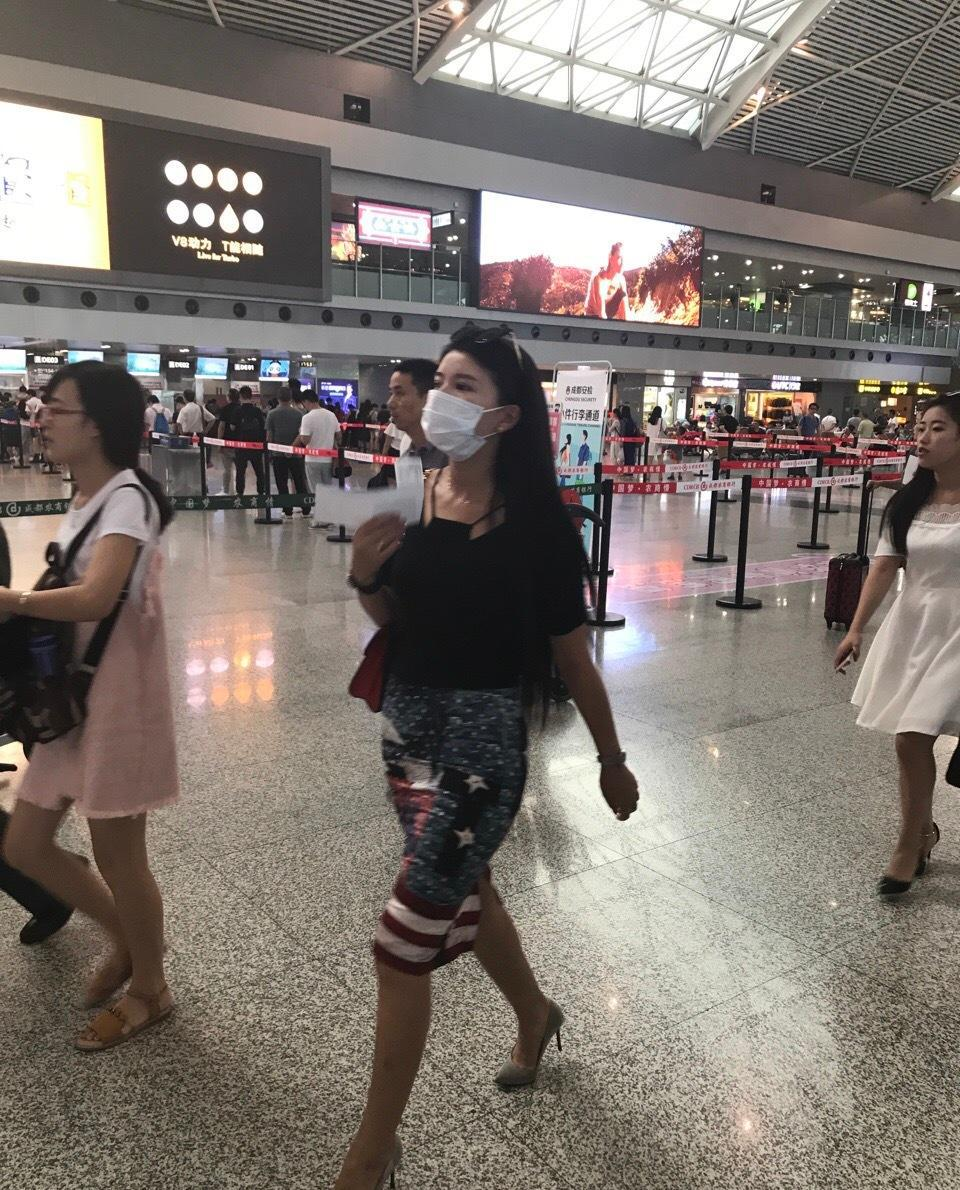NONE: (36, 394, 97, 460), (915, 420, 960, 469), (388, 386, 426, 428)
OK: (421, 364, 517, 460)
